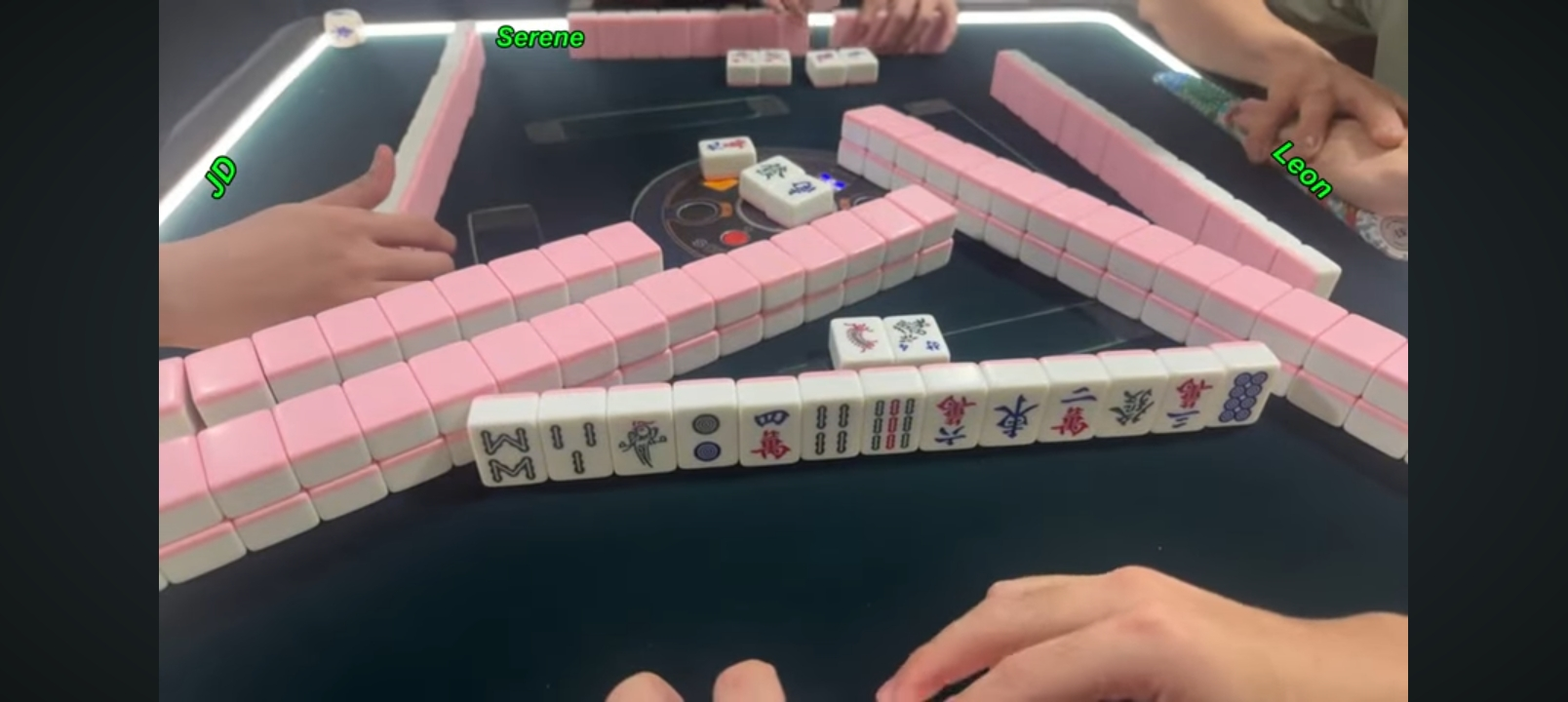TILE: (538, 418, 609, 481), (471, 422, 537, 484), (607, 416, 674, 476), (736, 407, 802, 466), (672, 409, 740, 466), (862, 395, 927, 454), (923, 390, 983, 449), (1047, 383, 1107, 442), (985, 389, 1046, 447), (1215, 368, 1277, 425), (804, 400, 861, 459), (1161, 377, 1221, 430), (1107, 380, 1160, 438), (886, 315, 952, 357), (831, 317, 890, 360)
